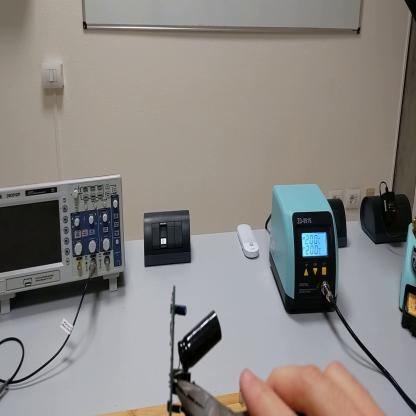hand: (241, 361, 393, 416)
high voltage board: (166, 283, 225, 415)
oscilloscope: (1, 172, 127, 316)
oscilloscope probe tip: (2, 380, 12, 398)
pliers: (176, 375, 240, 416)
socket: (362, 191, 416, 249), (327, 198, 350, 250)
welder base: (398, 221, 416, 338)
welder station: (270, 182, 342, 321)
working area: (92, 392, 248, 416)
